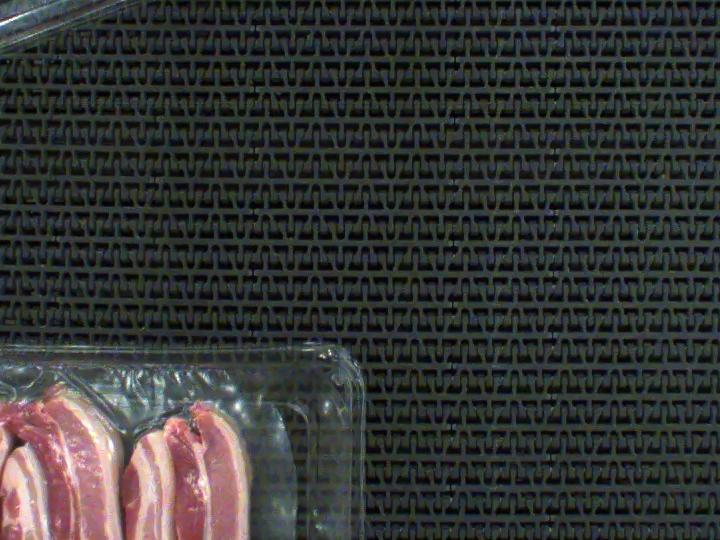unsealed: (0, 381, 286, 540)
